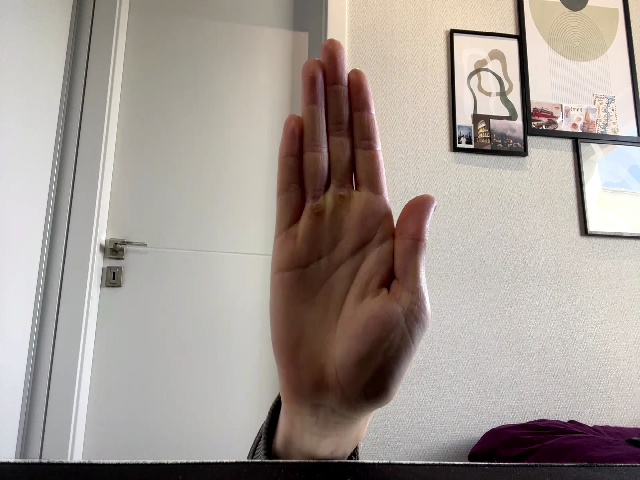B: (270, 40, 436, 413)
